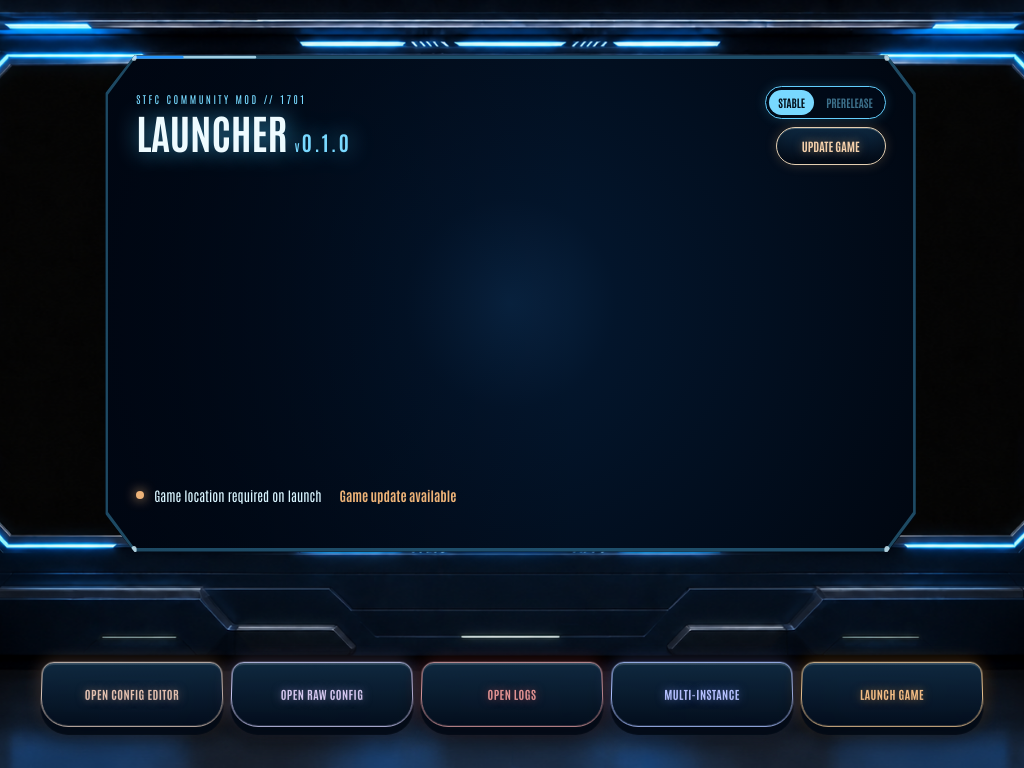
Scenario: MainLauncher › prompts for a game folder when update reports an unknown path
Click the button "Update Game".
click(831, 146)  # box [776, 127, 886, 165]
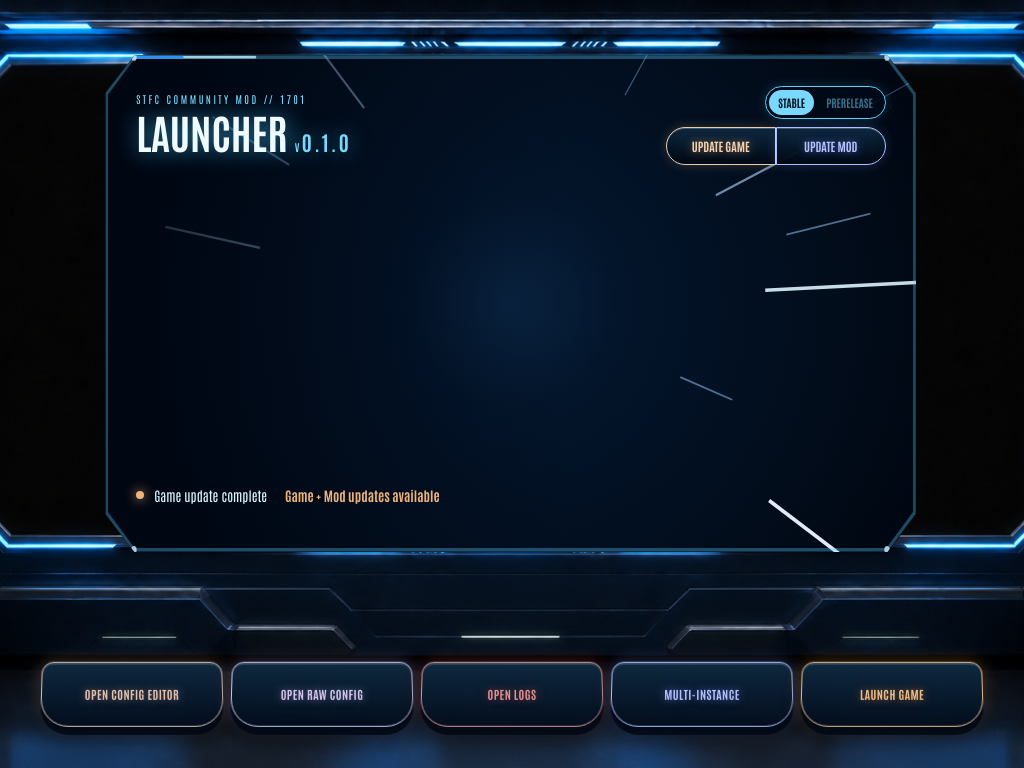
Result: the text "Game update complete" is shown at [154, 487, 267, 504]
